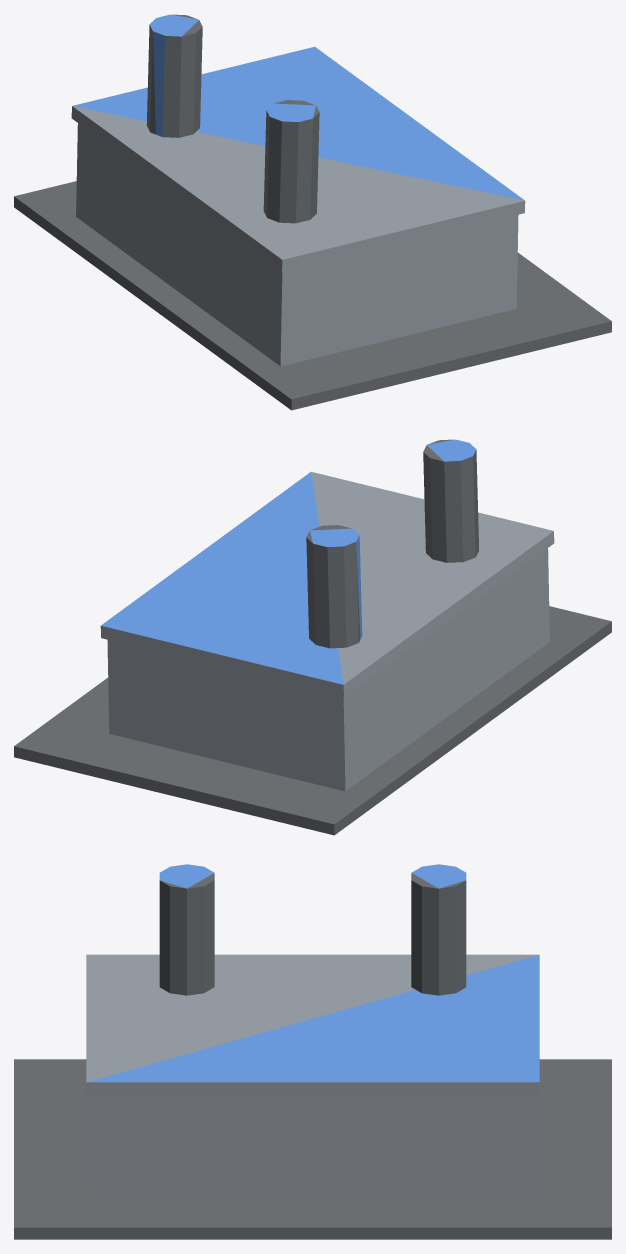
Rendered from veyran_power_plant_damaged.glb.
The picture shows the model from 3 angles, top to bottom: view 1: azimuth 30°, elevation 25°; view 2: azimuth 150°, elevation 25°; view 3: azimuth 270°, elevation 25°; orthographic projection. The views are drawn at different scales.
Parts seen in each view (by area): view 1: hull; view 2: hull; view 3: hull.
Part boxes in pixels (x1,y1,x2,y2): hull: (14, 14, 611, 410); hull: (14, 439, 611, 835); hull: (14, 864, 611, 1239).
Size of the model in its own units: 7.6 by 5 by 11.4.
